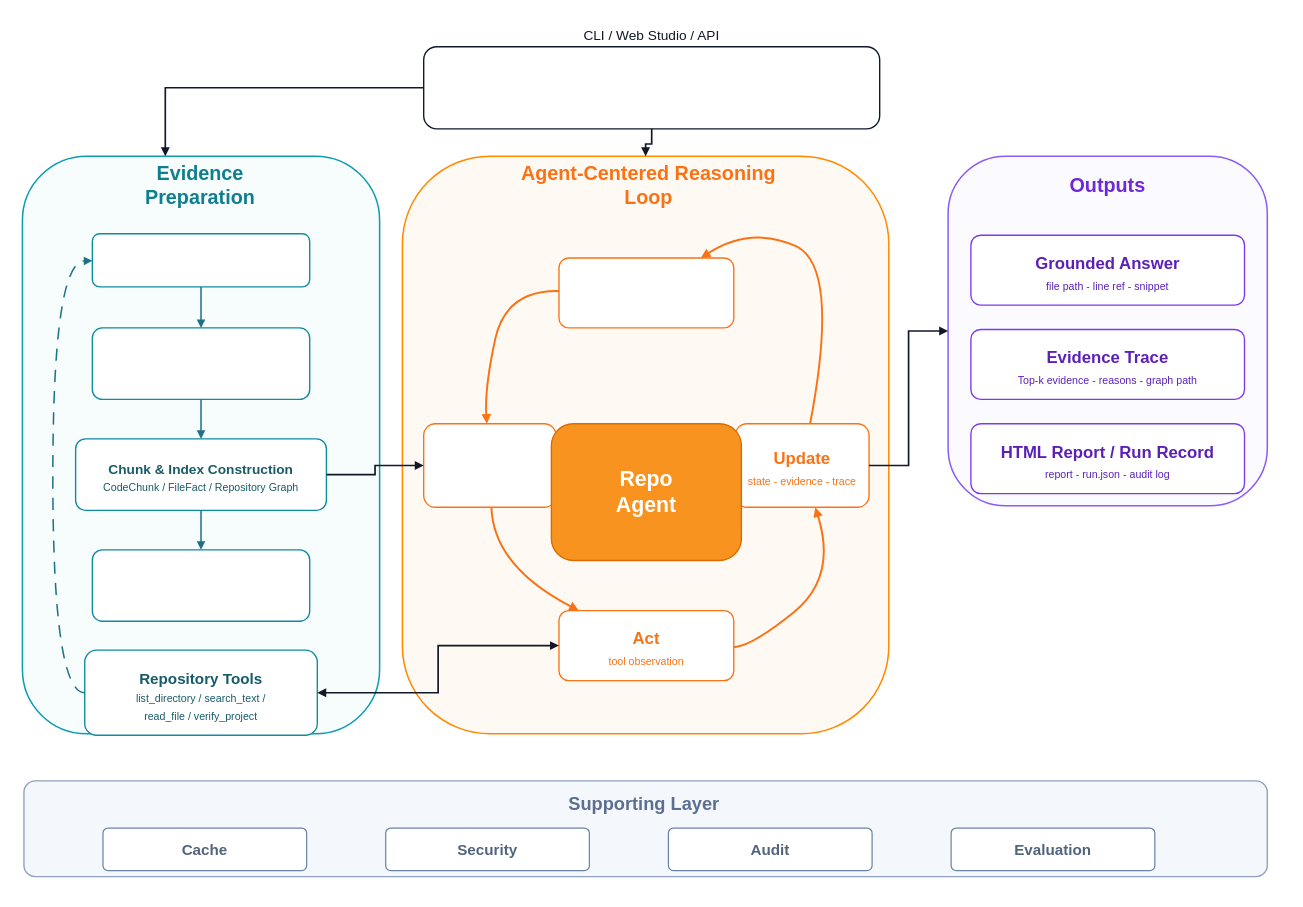
Some shapes in this 1303 by 907 pixel diagram are drawn without their labels. The centre of each missing label's shape, as x and y in pixels:
"Local Repository" goes at point (200, 260).
"Plan intent - focus terms" goes at point (646, 292).
"Retrieve candidate selection - graph expansion" goes at point (489, 465).
"Static Parsing symbol / route / call extraction" goes at point (200, 363).
"Structured Evidence RepositoryIndex" goes at point (200, 585).
"User Request Repository Path - User Query - Runtime Control" goes at point (651, 87).
